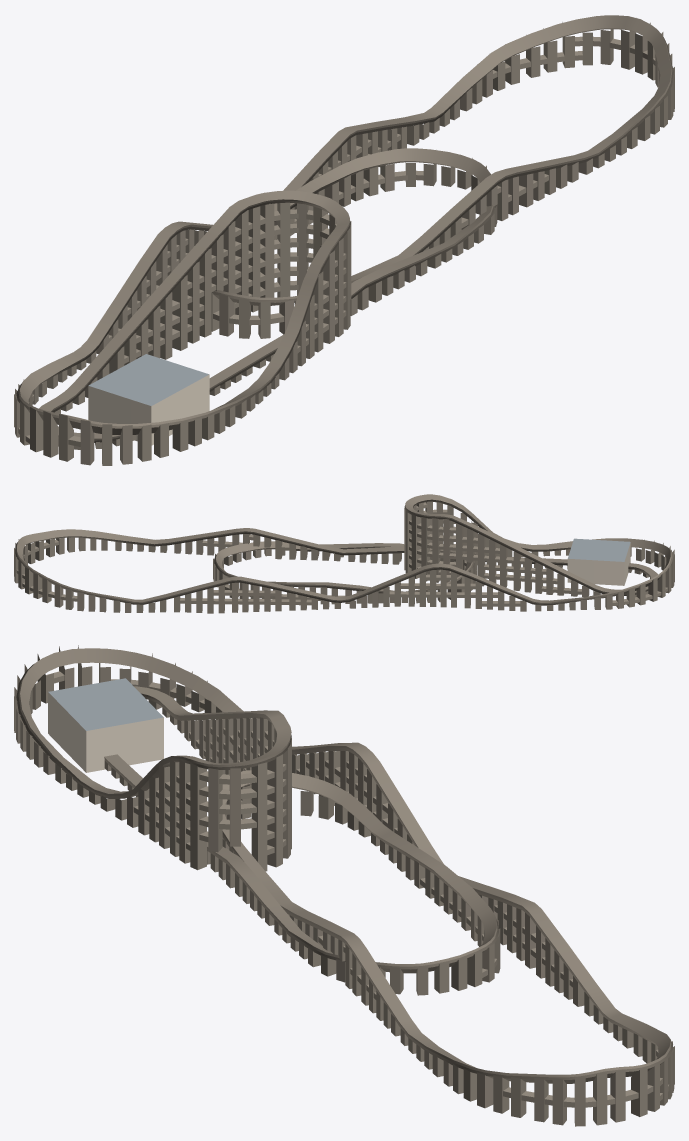
The model's file is carowinds-hurler.glb.
3 renders of one model, top to bottom at view 1: azimuth 30°, elevation 25°; view 2: azimuth 150°, elevation 25°; view 3: azimuth 270°, elevation 25°, orthographic. The views are drawn at different scales.
Visible parts, largest first — view 1: Hurler; view 2: Hurler; view 3: Hurler.
Part boxes in pixels (<box>): Hurler: <box>14,15,674,465</box>; Hurler: <box>14,494,674,613</box>; Hurler: <box>14,645,674,1126</box>.
Bounding box in the file's own units: 213 × 30.72 × 135.
